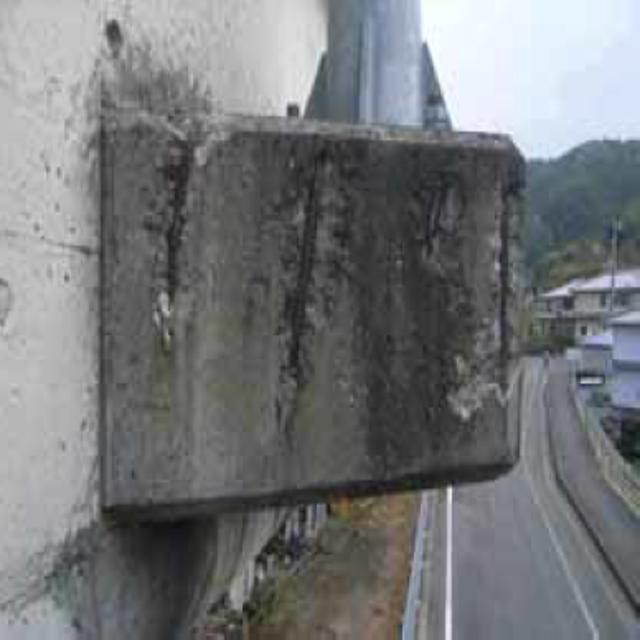spalling: (255, 142, 368, 438), (443, 166, 534, 427), (139, 107, 207, 330)
